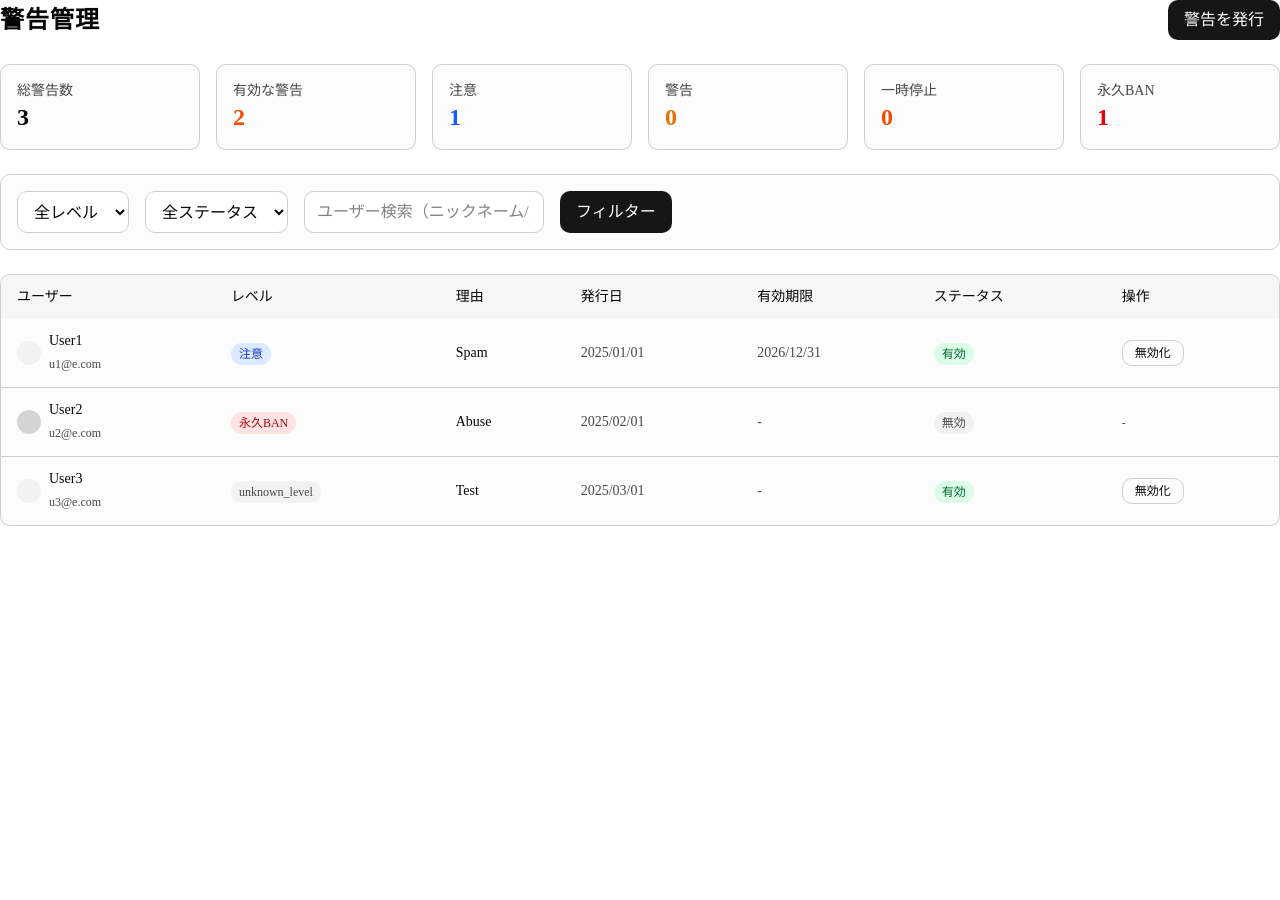
Test: WarningsList › opens issue warning dialog
expect the field with placeholder "ニックネームまたはメールで検索..." is not shown: met
Click the button "警告を発行".
click(1224, 20)  # box [1168, 0, 1279, 40]
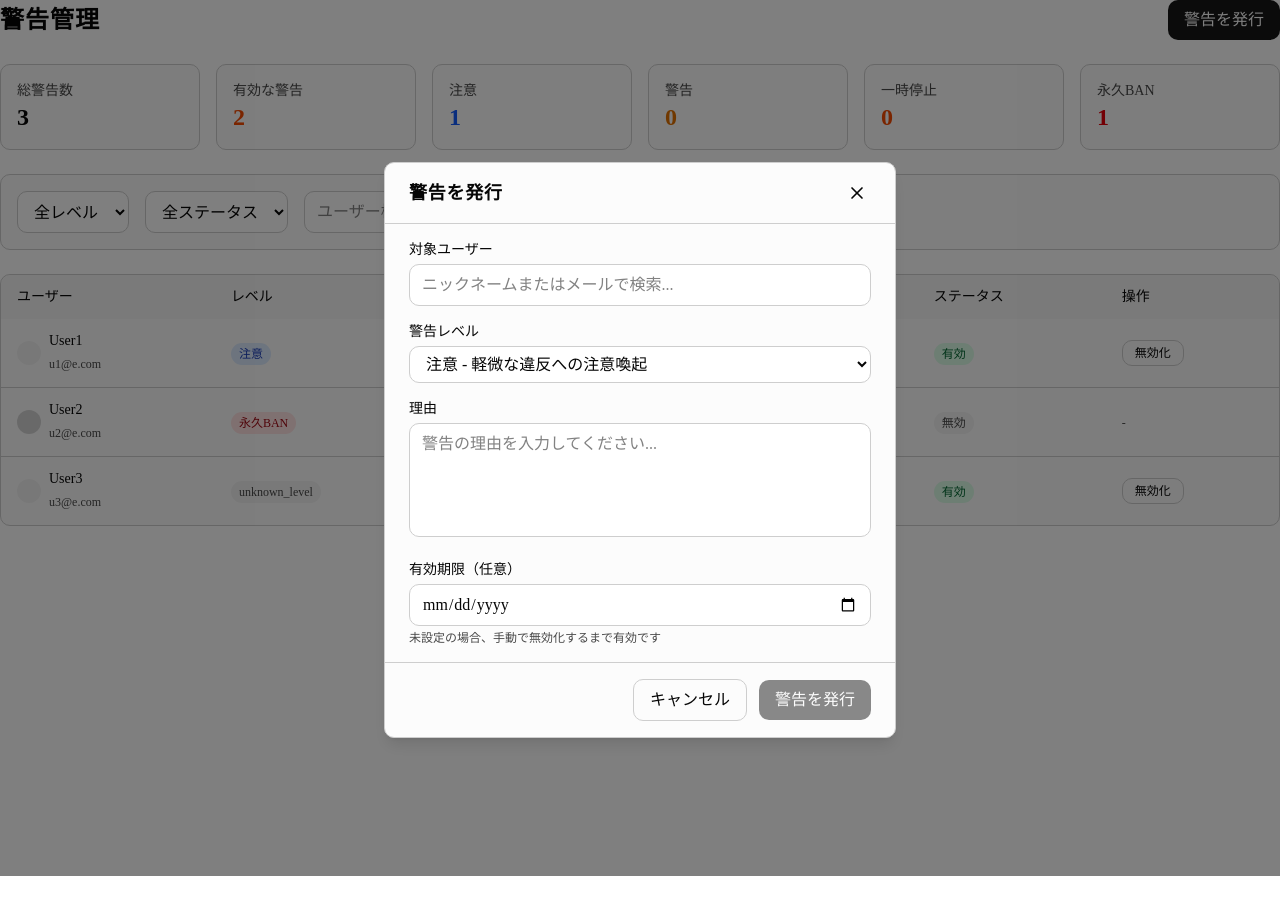
expect the field with placeholder "ニックネームまたはメールで検索..." is shown: met, box [409, 264, 871, 306]
